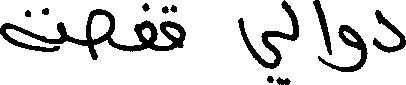X: (0, 3, 62, 56), (239, 13, 280, 84), (86, 4, 114, 64), (373, 5, 405, 57), (340, 20, 364, 76), (283, 0, 298, 84), (313, 0, 330, 71), (162, 0, 183, 55), (135, 0, 154, 55)
